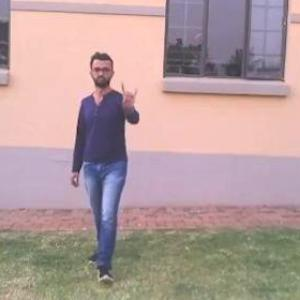takeoff-hand: (118, 74, 143, 110)
